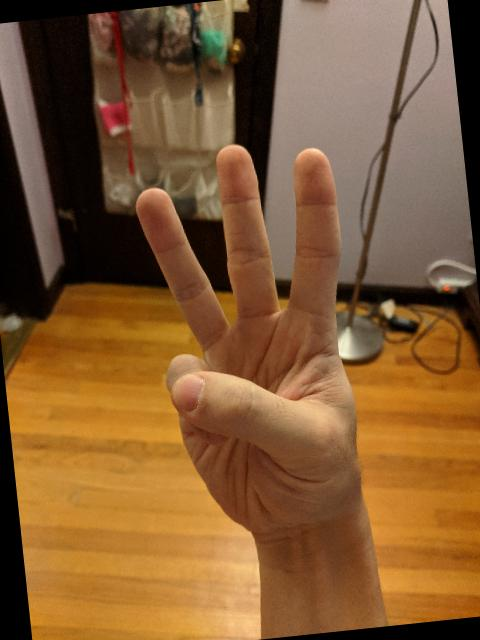W: (126, 129, 376, 545)
